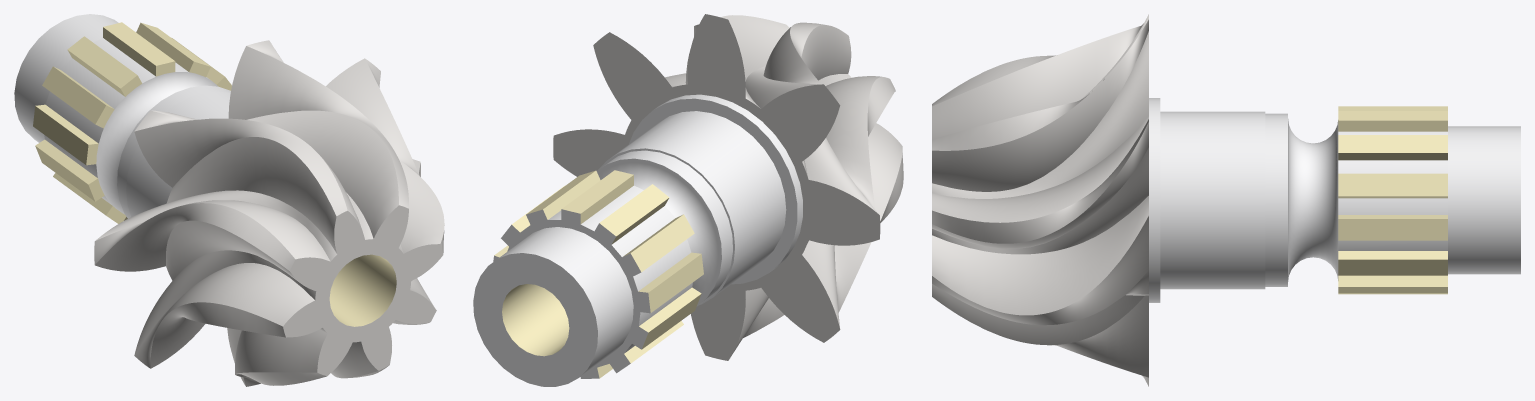
Rendered from precision-mechanical-component.glb.
The picture shows the model from 3 angles, left to right: view 1: azimuth 30°, elevation 25°; view 2: azimuth 150°, elevation 25°; view 3: azimuth 270°, elevation 25°; orthographic projection. The views are drawn at different scales.
Parts seen in each view (by area): view 1: Practice SolidW R5; view 2: Practice SolidW R5; view 3: Practice SolidW R5.
Boxes of the visible parts, x1,y1,x2,y2 form: Practice SolidW R5: (14, 14, 444, 386); Practice SolidW R5: (473, 14, 903, 386); Practice SolidW R5: (932, 14, 1520, 386).
Bounding box in the file's own units: 0.17 × 0.17 × 0.258.
